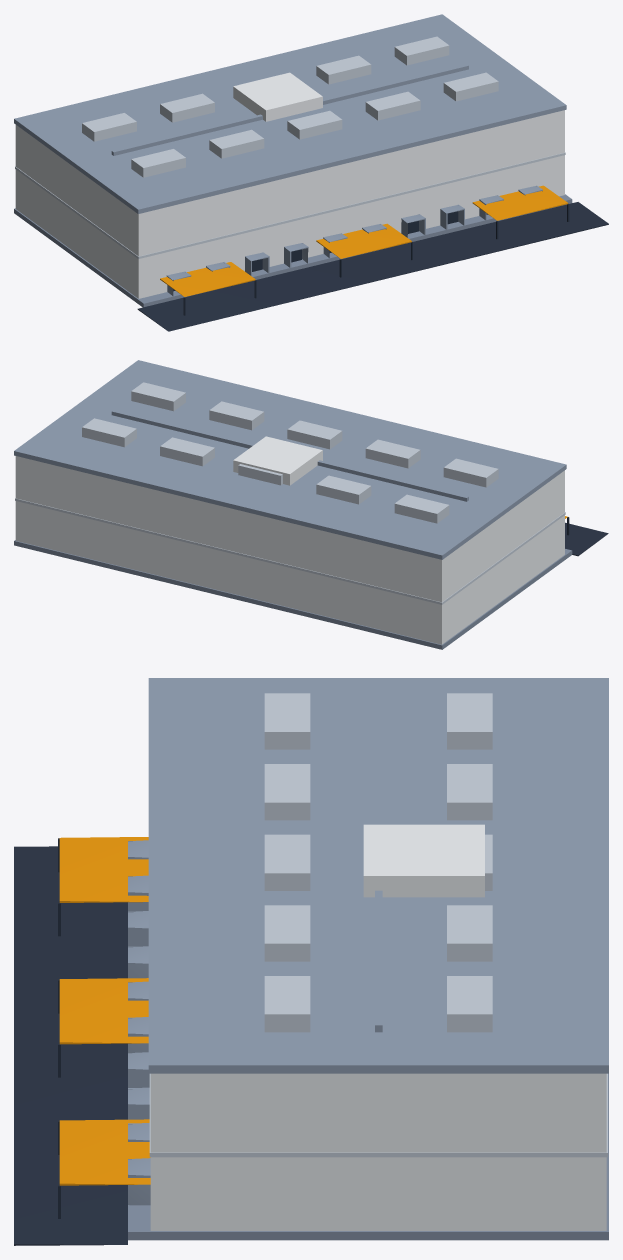
File: cold_storage.glb
3 views of the same model, one above another, from view 1: azimuth 30°, elevation 25°; view 2: azimuth 150°, elevation 25°; view 3: azimuth 270°, elevation 25° (orthographic). The views are drawn at different scales.
Parts seen in each view (by area): view 1: cold_storage; view 2: cold_storage; view 3: cold_storage.
Boxes of the visible parts, x1=… form: cold_storage: x1=14, y1=14, x2=608, y2=331; cold_storage: x1=14, y1=360, x2=608, y2=649; cold_storage: x1=14, y1=678, x2=608, y2=1245.
Size of the model in its own units: 124 by 28.5 by 78.3.
Materials: 1 (1 with a texture image).
